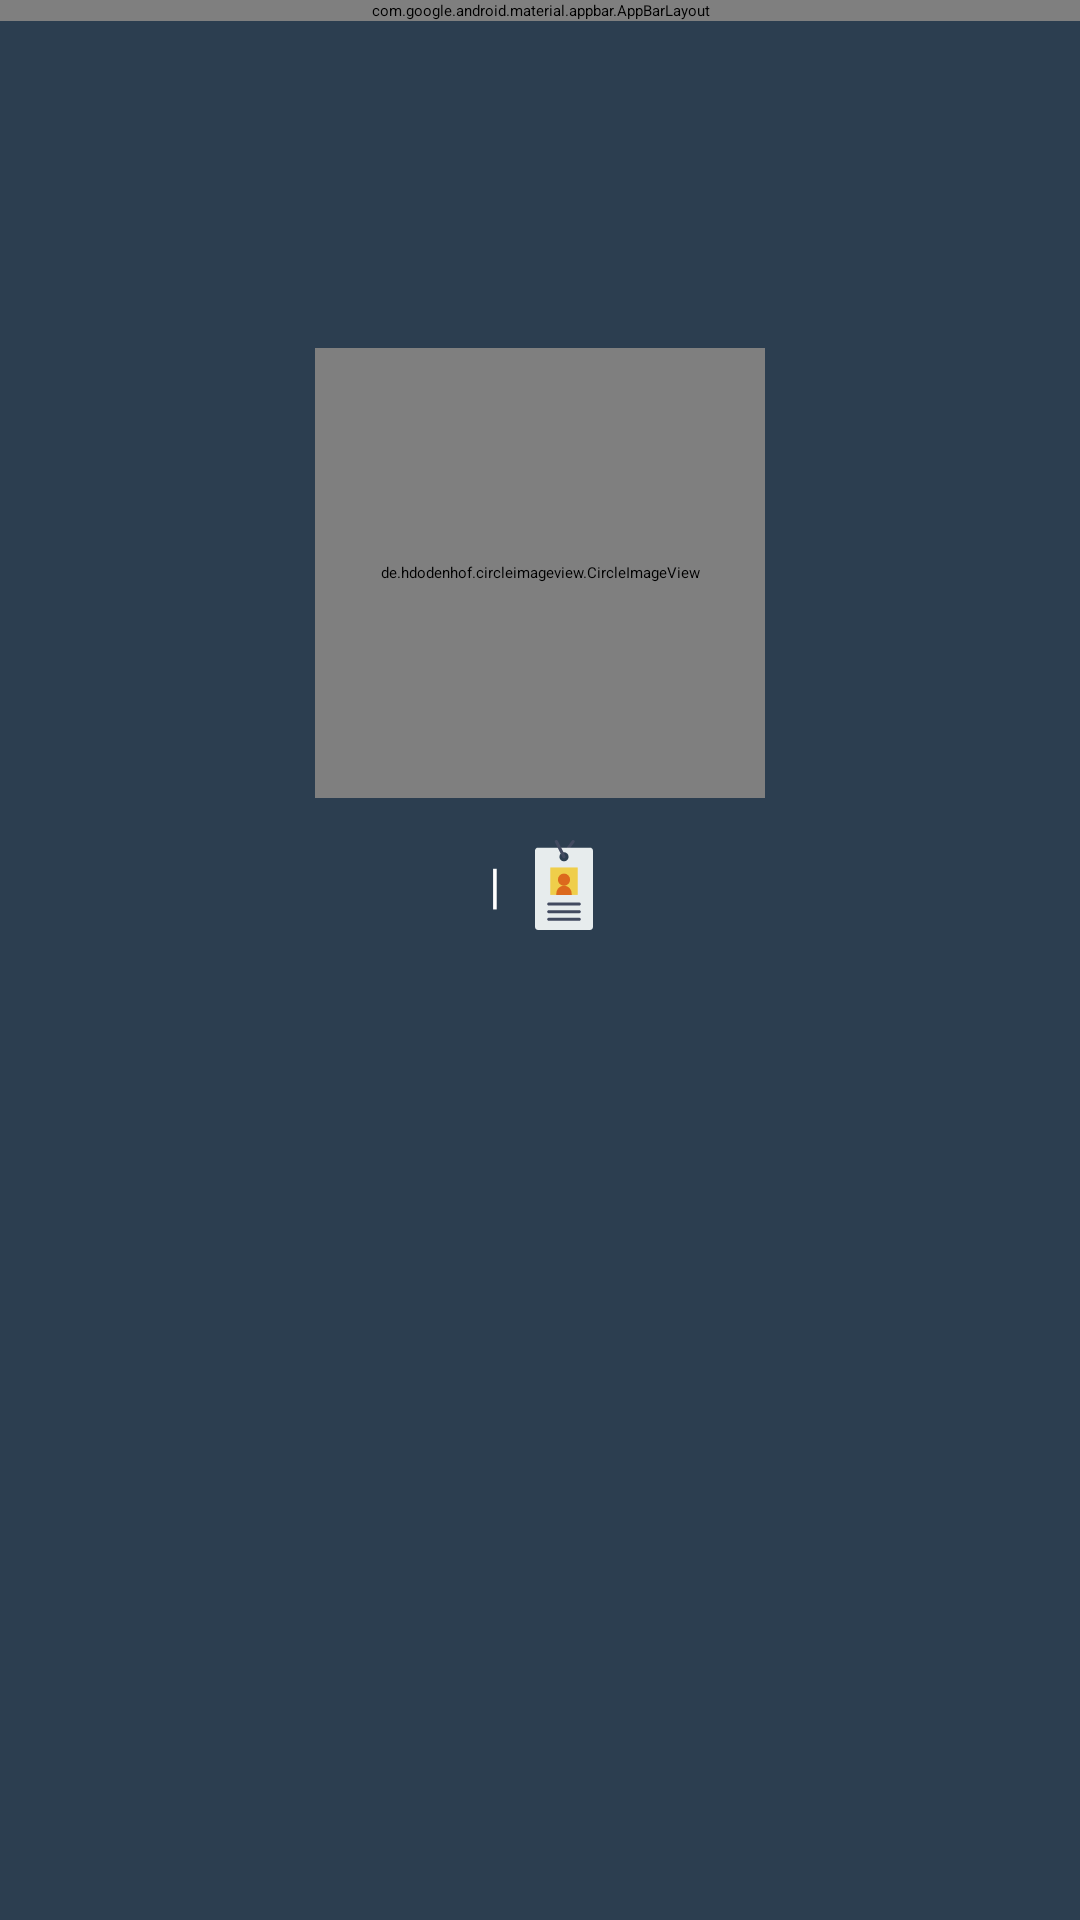

Named icons in this screenshot (1080×1920) and their centers, (x,y):
id card: (564,888)
